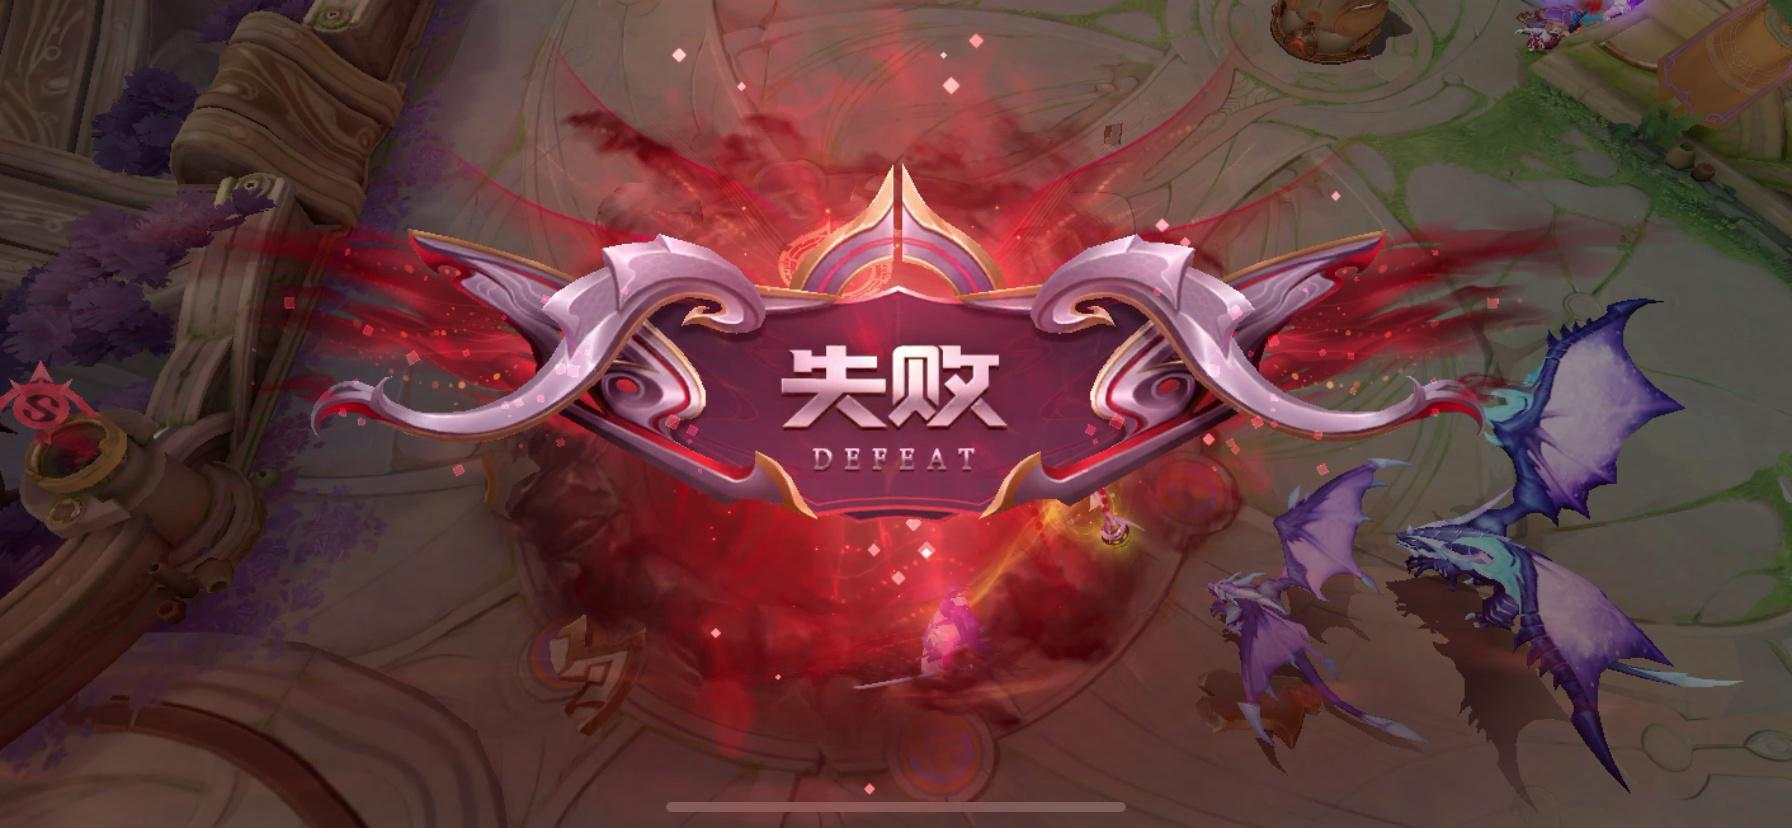Defeat: (309, 162, 1489, 522)
